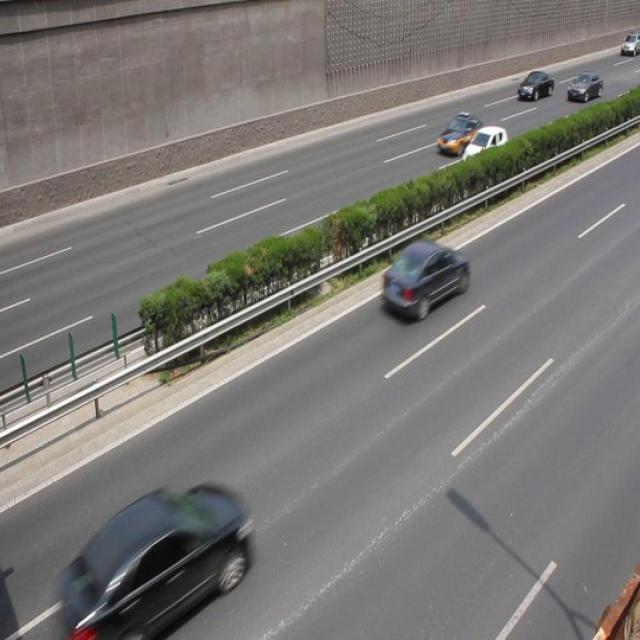car: (64, 482, 248, 621), (381, 238, 468, 320), (459, 126, 506, 174), (435, 112, 486, 156), (516, 71, 553, 102), (565, 71, 602, 102)
